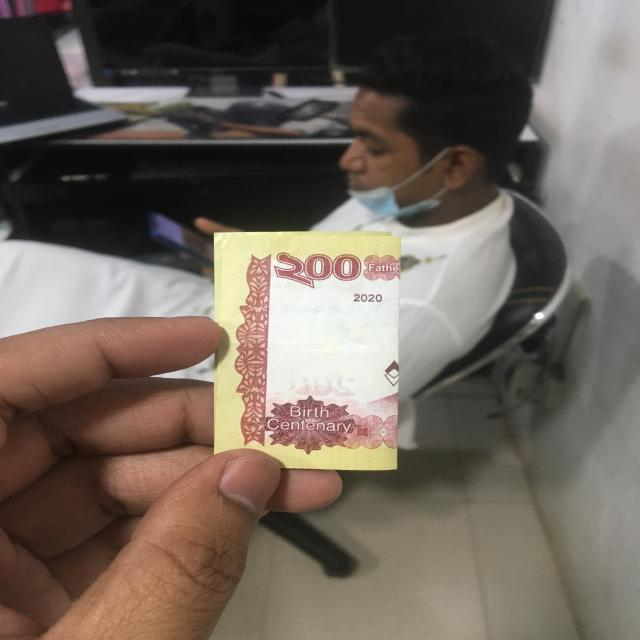Taka: (213, 231, 403, 471)
